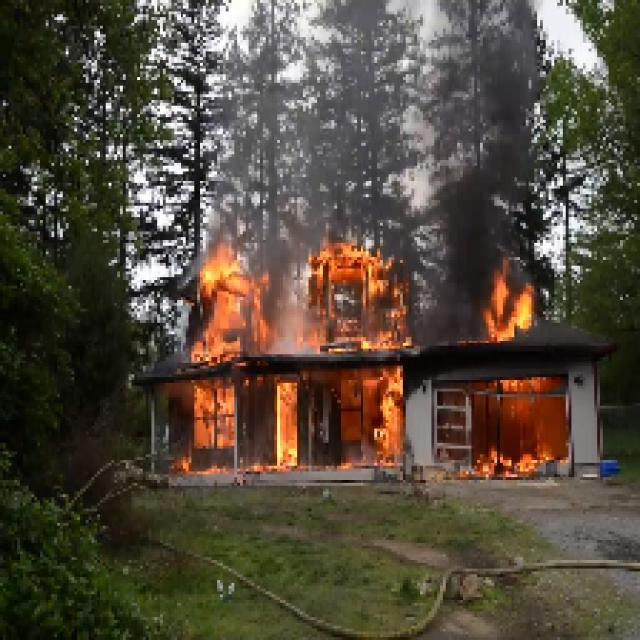Fire: (194, 264, 258, 444), (364, 374, 407, 450), (494, 286, 538, 344), (278, 381, 302, 466)
